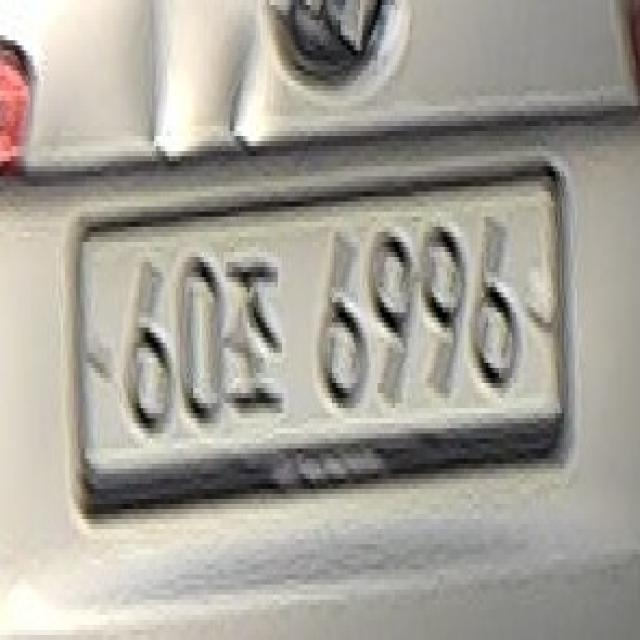plat: (74, 166, 569, 510)
